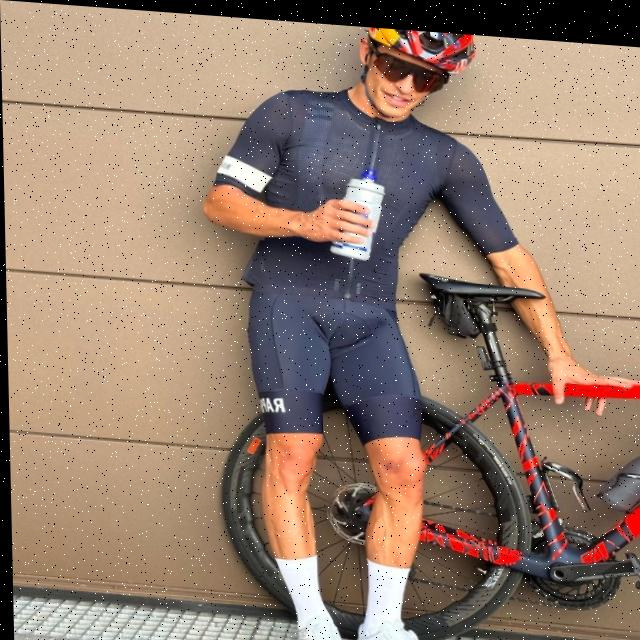illegal_helmet: (354, 21, 484, 122)
